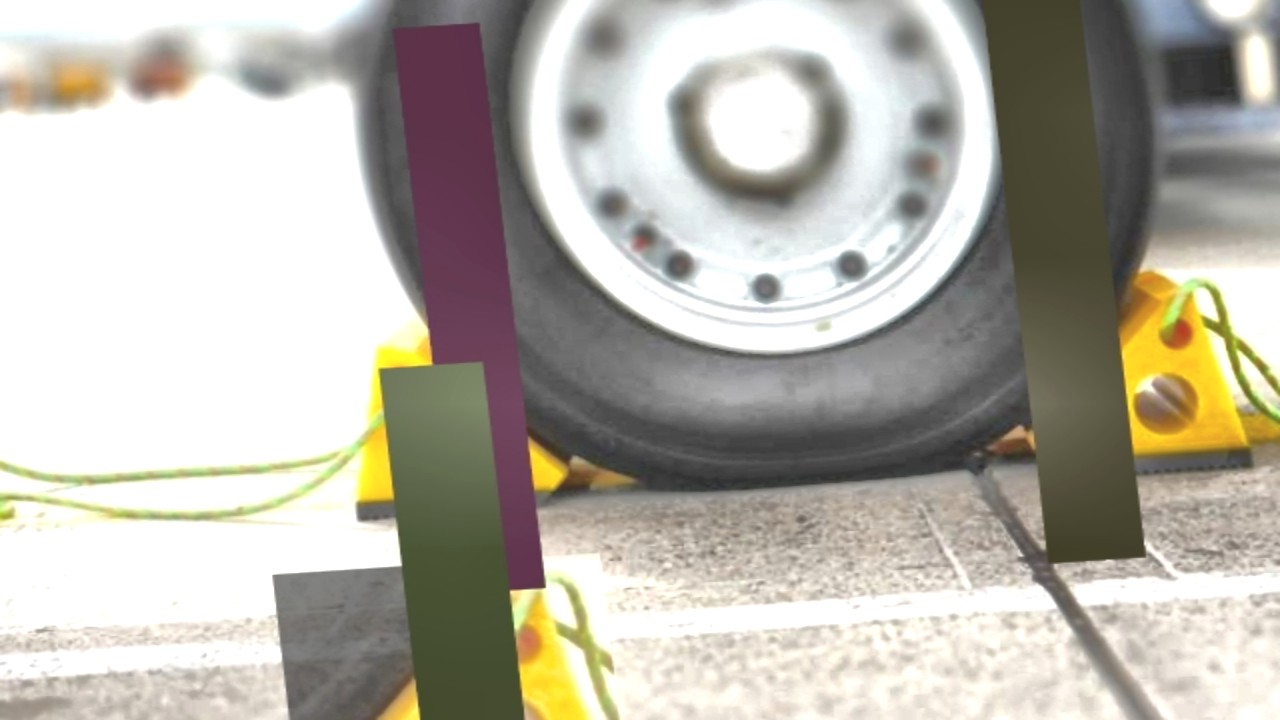chock: (272, 553, 630, 720), (990, 265, 1259, 478), (329, 300, 587, 520)
wheel: (325, 0, 1183, 510)
